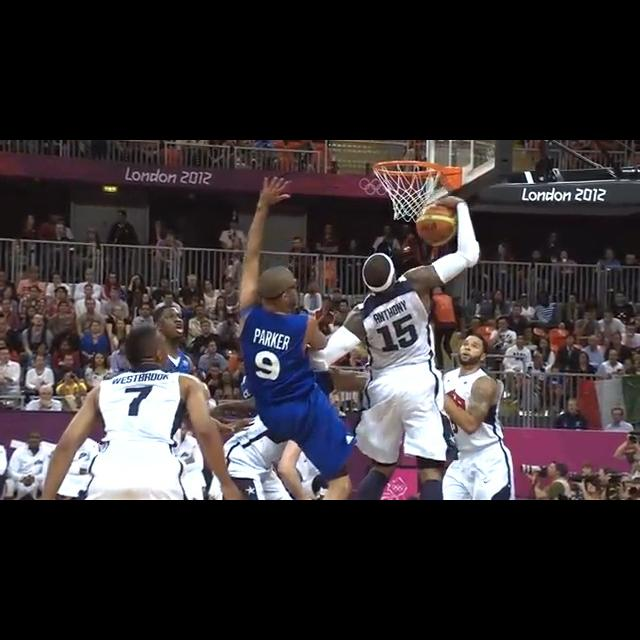basketball: (418, 199, 456, 245)
hoop: (376, 159, 437, 214)
person: (323, 190, 482, 498), (26, 322, 246, 499), (238, 266, 341, 499), (436, 332, 514, 498), (0, 430, 52, 500), (197, 335, 228, 404), (80, 314, 117, 367), (18, 312, 55, 357), (23, 350, 55, 397), (55, 371, 87, 412), (552, 395, 589, 428), (0, 340, 22, 395), (25, 382, 63, 410), (605, 404, 634, 431), (87, 351, 113, 379)
